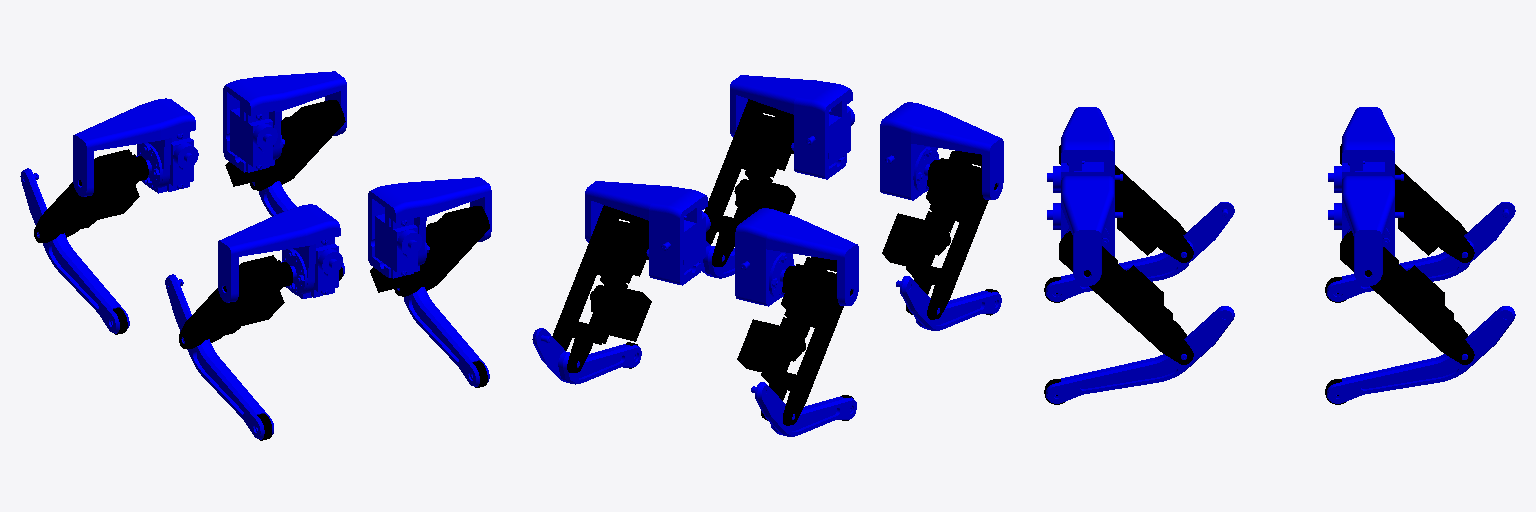
--- Render facts (derived) ---
Views: 3 orthographic renders of the robot side by side, from view 1: azimuth 30°, elevation 25°; view 2: azimuth 150°, elevation 25°; view 3: azimuth 270°, elevation 25°.
Robot: nx15a — 18 links, 17 joints (12 revolute, 5 fixed); root link base_link; default pose: every joint at zero.
Visible links, largest first — view 1: Leg_Upper_RF, Leg_Upper_RR, Leg_Upper_LR, Leg_Upper_LF, Leg_Mid_RR, Leg_Mid_RF, Leg_Mid_LF, Leg_Mid_LR, Leg_bottom_RR, Leg_bottom_RF, Leg_bottom_LF, Leg_bottom_LR; view 2: Leg_Mid_LR, Leg_Mid_RF, Leg_Mid_RR, Leg_Mid_LF, Leg_Upper_RR, Leg_Upper_RF, Leg_Upper_LR, Leg_Upper_LF, Leg_bottom_LR, Leg_bottom_RR, Leg_bottom_RF, Leg_bottom_LF; view 3: Leg_Mid_LF, Leg_Mid_LR, Leg_Upper_LF, Leg_Upper_LR, Leg_bottom_LR, Leg_bottom_LF, Leg_Mid_RR, Leg_Mid_RF, Leg_Upper_RF, Leg_Upper_RR, Leg_bottom_RR, Leg_bottom_RF.
Link boxes in pixels (x1=…): Leg_Upper_RF: x1=218, y1=204, x2=342, y2=302; Leg_Upper_RR: x1=73, y1=98, x2=198, y2=196; Leg_Upper_LR: x1=223, y1=71, x2=346, y2=172; Leg_Upper_LF: x1=368, y1=177, x2=491, y2=278; Leg_Mid_RR: x1=34, y1=149, x2=148, y2=242; Leg_Mid_RF: x1=179, y1=255, x2=292, y2=348; Leg_Mid_LF: x1=370, y1=206, x2=489, y2=296; Leg_Mid_LR: x1=225, y1=100, x2=345, y2=190; Leg_bottom_RR: x1=20, y1=168, x2=129, y2=333; Leg_bottom_RF: x1=165, y1=274, x2=273, y2=439; Leg_bottom_LF: x1=397, y1=287, x2=489, y2=386; Leg_bottom_LR: x1=252, y1=181, x2=344, y2=275; Leg_Mid_LR: x1=552, y1=205, x2=651, y2=372; Leg_Mid_RF: x1=882, y1=151, x2=997, y2=319; Leg_Mid_RR: x1=737, y1=257, x2=852, y2=425; Leg_Mid_LF: x1=704, y1=99, x2=795, y2=266; Leg_Upper_RR: x1=735, y1=208, x2=858, y2=306; Leg_Upper_RF: x1=880, y1=102, x2=1003, y2=200; Leg_Upper_LR: x1=585, y1=181, x2=710, y2=285; Leg_Upper_LF: x1=730, y1=75, x2=854, y2=179; Leg_bottom_LR: x1=532, y1=328, x2=641, y2=384; Leg_bottom_RR: x1=751, y1=382, x2=856, y2=436; Leg_bottom_RF: x1=896, y1=276, x2=1001, y2=330; Leg_bottom_LF: x1=701, y1=241, x2=734, y2=278; Leg_Mid_LF: x1=1059, y1=231, x2=1193, y2=364; Leg_Mid_LR: x1=1340, y1=231, x2=1474, y2=364; Leg_Upper_LF: x1=1047, y1=176, x2=1122, y2=285; Leg_Upper_LR: x1=1328, y1=176, x2=1403, y2=285; Leg_bottom_LR: x1=1327, y1=306, x2=1515, y2=403; Leg_bottom_LF: x1=1046, y1=306, x2=1234, y2=403; Leg_Mid_RR: x1=1340, y1=144, x2=1474, y2=262; Leg_Mid_RF: x1=1059, y1=145, x2=1193, y2=262; Leg_Upper_RF: x1=1047, y1=107, x2=1122, y2=192; Leg_Upper_RR: x1=1328, y1=107, x2=1403, y2=192; Leg_bottom_RR: x1=1327, y1=202, x2=1515, y2=301; Leg_bottom_RF: x1=1046, y1=202, x2=1234, y2=301.
Bounding box of the posed robot: 0.151 × 0.244 × 0.1093 m (x, y, z).
16 mesh visuals loaded from 8 distinct referenced files (7 binary STL); not drawn: 1 (reference not matched to a file when rendering).

robot.urdf — nx15a:
<?xml version="1.0" ?>
<robot name="nx15a">
    <material name="blue">
        <color rgba="0.0 0.0 1.0 2.0" />
    </material>
    <material name="black">
        <color rgba="0.0 0.0 0.0 2.0" />
    </material>
    <link name="base_link" />
    <joint name="base_joint" type="fixed">
        <parent link="base_link" />
        <child link="Body" />
        <origin xyz="0 0 0.140" rpy="0 0 0" />
    </joint>
    <link name="Body">
        <visual>
            <geometry>
                <mesh filename="package://nx15a/stl/Body.stl" />
            </geometry>
            <origin xyz="0 0 0" rpy="0 0 0" />
            <material name="blue" />
        </visual>
        <collision>
            <geometry>
                <box size="0.076 0.112 0.048" />
            </geometry>
            <origin xyz="0 0.056 0.009" rpy="0 0 0" />
            <material name="blue" />
        </collision>
	<inertial>
            <origin xyz="0 0.052 0.008" rpy="0 0 0" />
            <mass value="0.346" />
            <inertia ixx="0.000441846" ixy="0" ixz="0" iyx="0" iyy="0.000227303" iyz="0" izx="0" izy="0" izz="0.00054726" />
        </inertial>
    </link>
    <joint name="joint_LF_1" type="revolute">
        <parent link="Body" />
        <child link="Leg_Upper_LF" />
        <origin xyz="0.023 -0.0355 0" rpy="0 0 0" />
        <axis xyz="0 1 0" />
        <limit lower="-1.57" upper="1.57" effort="30" velocity="3.142" />
    </joint>
    <link name="Leg_Upper_LF">
        <visual>
            <geometry>
                <mesh filename="package://nx15a/stl/Leg_Upper_LH.stl" />
            </geometry>
            <origin xyz="-0.007 0.035 -0.022" rpy="0 0 0" />
            <material name="blue" />
        </visual>
        <collision>
            <geometry>
                <box size="0.018 0.032 0.0422" />
            </geometry>
            <origin xyz="0.002 0.019 -0.0009" rpy="0 0 0" />
            <material name="blue" />
        </collision>
	<inertial>
            <origin xyz="0.007 0.00203 0.0003" rpy="0 0 0" />
            <mass value="0.035143" />
            <inertia ixx="0.000008214" ixy="0" ixz="0" iyx="0" iyy="0.000006164" iyz="0" izx="0" izy="0" izz="0.000003948" />
        </inertial>
    </link>
    <joint name="joint_LF_2" type="revolute">
        <parent link="Leg_Upper_LF" />
        <child link="Leg_Mid_LF" />
        <origin xyz="0.013 0.021 -0.0093" rpy="0.785398163397 0 0" />
        <axis xyz="1 0 0" />
        <limit lower="-1.57" upper="1.57" effort="30" velocity="3.142" />
    </joint>
    <link name="Leg_Mid_LF">
        <visual>
            <geometry>
                <mesh filename="package://nx15a/stl/Leg_Mid_LH.stl" />
            </geometry>
            <origin xyz="0.035 0.007 -0.0557" rpy="0 0 0" />
            <material name="black" />
        </visual>
        <collision>
            <geometry>
                <box size="0.032 0.014 0.0714" />
            </geometry>
            <origin xyz="0.019 0 -0.020" rpy="0 0 0" />
            <material name="black" />
        </collision>
	<inertial>
            <origin xyz="0.0166 0 -0.0229" rpy="0 0 0" />
            <mass value="0.039138" />
            <inertia ixx="0.000017266" ixy="0" ixz="0" iyx="0" iyy="0.000019967" iyz="0" izx="0" izy="0" izz="0.000003979" />
        </inertial>
    </link>
    <joint name="joint_LF_3" type="revolute">
        <parent link="Leg_Mid_LF" />
        <child link="Leg_bottom_LF" />
        <origin xyz="0.022 0 -0.0707" rpy="-1.570796326795 0 0" />
        <axis xyz="1 0 0" />
        <limit lower="-1.57" upper="1.57" effort="30" velocity="3.142" />
    </joint>
    <link name="Leg_bottom_LF">
        <visual>
            <geometry>
                <mesh filename="package://nx15a/stl/Leg_bottom_LH.stl" />
            </geometry>
            <origin xyz="0.0045 0 0" rpy="0 0 0" />
            <material name="blue" />
        </visual>
        <collision>
            <geometry>
                <box size="0.008 0.010 0.060" />
            </geometry>
            <origin xyz="0.0049 -0.012896 -0.030" rpy="-0.444360827558 0 0" />
            <material name="blue" />
        </collision>
	<inertial>
            <origin xyz="0.0049 -0.012896 -0.030" rpy="-0.444360827558 0 0" />
            <mass value="0.00816" />
            <inertia ixx="0.000002516" ixy="0" ixz="0" iyx="0" iyy="0.000002492" iyz="0" izx="0" izy="0" izz="0.000000112" />
        </inertial>
    </link>
    <joint name="joint_LF_4" type="fixed">
        <parent link="Leg_bottom_LF" />
        <child link="Rubber_LF" />
        <origin xyz="0.0023 -0.030 -0.063" rpy="0.785398163397 0 0" />
    </joint>
    <link name="Rubber_LF">
        <visual>
            <geometry>
                <mesh filename="package://nx15a/stl/Rubber.stl" />
            </geometry>
            <origin xyz="0.0002 0 0" rpy="0 0 0" />
            <material name="black" />
        </visual>
        <collision>
            <geometry>
                <sphere radius="0.0065" />
            </geometry>
            <origin xyz="0.0022 0 0" rpy="0 0 0" />
            <material name="black" />
        </collision>
	<inertial>
            <origin xyz="0.0022 0 0" rpy="0 0 0" />
            <mass value="0.0004" />
            <inertia ixx="0.000000011" ixy="0" ixz="0" iyx="0" iyy="0.000000006" iyz="0" izx="0" izy="0" izz="0.000000006" />
        </inertial>
    </link>
    
    <joint name="joint_LR_1" type="revolute">
        <parent link="Body" />
        <child link="Leg_Upper_LR" />
        <origin xyz="0.023 0.110 0" rpy="0 0 0" />
        <axis xyz="0 1 0" />
        <limit lower="-1.57" upper="1.57" effort="30" velocity="3.142" />
    </joint>
    <link name="Leg_Upper_LR">
        <visual>
            <geometry>
                <mesh filename="package://nx15a/stl/Leg_Upper_LH.stl" />
            </geometry>
            <origin xyz="-0.007 0.035 -0.022" rpy="0 0 0" />
            <material name="blue" />
        </visual>
        <collision>
            <geometry>
                <box size="0.018 0.032 0.0422" />
            </geometry>
            <origin xyz="0.002 0.019 -0.0009" rpy="0 0 0" />
            <material name="blue" />
        </collision>
	<inertial>
            <origin xyz="0.007 0.00203 0.0003" rpy="0 0 0" />
            <mass value="0.035143" />
            <inertia ixx="0.000008214" ixy="0" ixz="0" iyx="0" iyy="0.000006164" iyz="0" izx="0" izy="0" izz="0.000003948" />
        </inertial>
    </link>
    <joint name="joint_LR_2" type="revolute">
        <parent link="Leg_Upper_LR" />
        <child link="Leg_Mid_LR" />
        <origin xyz="0.013 0.021 -0.0093" rpy="0.785398163397 0 0" />
        <axis xyz="1 0 0" />
        <limit lower="-1.57" upper="1.57" effort="30" velocity="3.142" />
    </joint>
    <link name="Leg_Mid_LR">
        <visual>
            <geometry>
                <mesh filename="package://nx15a/stl/Leg_Mid_LH.stl" />
            </geometry>
            <origin xyz="0.035 0.007 -0.0557" rpy="0 0 0" />
            <material name="black" />
        </visual>
        <collision>
            <geometry>
                <box size="0.032 0.014 0.0714" />
            </geometry>
            <origin xyz="0.019 0 -0.020" rpy="0 0 0" />
            <material name="black" />
        </collision>
	<inertial>
            <origin xyz="0.0166 0 -0.0229" rpy="0 0 0" />
            <mass value="0.039138" />
            <inertia ixx="0.000017266" ixy="0" ixz="0" iyx="0" iyy="0.000019967" iyz="0" izx="0" izy="0" izz="0.000003979" />
        </inertial>
    </link>
    <joint name="joint_LR_3" type="revolute">
        <parent link="Leg_Mid_LR" />
        <child link="Leg_bottom_LR" />
        <origin xyz="0.022 0 -0.0707" rpy="-1.570796326795 0 0" />
        <axis xyz="1 0 0" />
        <limit lower="-1.57" upper="1.57" effort="30" velocity="3.142" />
    </joint>
    <link name="Leg_bottom_LR">
        <visual>
            <geometry>
                <mesh filename="package://nx15a/stl/Leg_bottom_LH.stl" />
            </geometry>
            <origin xyz="0.0045 0 0" rpy="0 0 0" />
            <material name="blue" />
        </visual>
        <collision>
            <geometry>
                <box size="0.008 0.010 0.060" />
            </geometry>
            <origin xyz="0.0049 -0.012896 -0.030" rpy="-0.444360827558 0 0" />
            <material name="blue" />
        </collision>
	<inertial>
            <origin xyz="0.0049 -0.012896 -0.030" rpy="-0.444360827558 0 0" />
            <mass value="0.00816" />
            <inertia ixx="0.000002516" ixy="0" ixz="0" iyx="0" iyy="0.000002492" iyz="0" izx="0" izy="0" izz="0.000000112" />
        </inertial>
    </link>
    <joint name="joint_LR_4" type="fixed">
        <parent link="Leg_bottom_LR" />
        <child link="Rubber_LR" />
        <origin xyz="0.0023 -0.030 -0.063" rpy="0.785398163397 0 0" />
    </joint>
    <link name="Rubber_LR">
        <visual>
            <geometry>
                <mesh filename="package://nx15a/stl/Rubber.stl" />
            </geometry>
            <origin xyz="0.0002 0 0" rpy="0 0 0" />
            <material name="black" />
        </visual>
        <collision>
            <geometry>
                <sphere radius="0.0065" />
            </geometry>
            <origin xyz="0.0022 0 0" rpy="0 0 0" />
            <material name="black" />
        </collision>
	<inertial>
            <origin xyz="0.0022 0 0" rpy="0 0 0" />
            <mass value="0.0004" />
            <inertia ixx="0.000000011" ixy="0" ixz="0" iyx="0" iyy="0.000000006" iyz="0" izx="0" izy="0" izz="0.000000006" />
        </inertial>
    </link>

    <joint name="joint_RF_1" type="revolute">
        <parent link="Body" />
        <child link="Leg_Upper_RF" />
        <origin xyz="-0.023 -0.0355 0" rpy="0 0 0" />
        <axis xyz="0 1 0" />
        <limit lower="-1.57" upper="1.57" effort="30" velocity="3.142" />
    </joint>
    <link name="Leg_Upper_RF">
        <visual>
            <geometry>
                <mesh filename="package://nx15a/stl/Leg_Upper_RH.stl" />
            </geometry>
            <origin xyz="0.007 0.035 -0.022" rpy="0 0 0" />
            <material name="blue" />
        </visual>
        <collision>
            <geometry>
                <box size="0.018 0.032 0.0422" />
            </geometry>
            <origin xyz="-0.002 0.019 -0.0009" rpy="0 0 0" />
            <material name="blue" />
        </collision>
	<inertial>
            <origin xyz="-0.007 0.00203 0.0003" rpy="0 0 0" />
            <mass value="0.035143" />
            <inertia ixx="0.000008214" ixy="0" ixz="0" iyx="0" iyy="0.000006164" iyz="0" izx="0" izy="0" izz="0.000003948" />
        </inertial>
    </link>
    <joint name="joint_RF_2" type="revolute">
        <parent link="Leg_Upper_RF" />
        <child link="Leg_Mid_RF" />
        <origin xyz="-0.013 0.021 -0.0093" rpy="0.785398163397 0 0" />
        <axis xyz="1 0 0" />
        <limit lower="-1.57" upper="1.57" effort="30" velocity="3.142" />
    </joint>
    <link name="Leg_Mid_RF">
        <visual>
            <geometry>
                <mesh filename="package://nx15a/stl/Leg_Mid_RH.stl" />
            </geometry>
            <origin xyz="-0.035 0.007 -0.0557" rpy="0 0 0" />
            <material name="black" />
        </visual>
        <collision>
            <geometry>
                <box size="0.032 0.014 0.0714" />
            </geometry>
            <origin xyz="-0.019 0 -0.020" rpy="0 0 0" />
            <material name="black" />
        </collision>
	<inertial>
            <origin xyz="-0.0166 0 -0.0229" rpy="0 0 0" />
            <mass value="0.039138" />
            <inertia ixx="0.000017266" ixy="0" ixz="0" iyx="0" iyy="0.000019967" iyz="0" izx="0" izy="0" izz="0.000003979" />
        </inertial>
    </link>
    <joint name="joint_RF_3" type="revolute">
        <parent link="Leg_Mid_RF" />
        <child link="Leg_bottom_RF" />
        <origin xyz="-0.022 0 -0.0707" rpy="-1.570796326795 0 0" />
        <axis xyz="1 0 0" />
        <limit lower="-1.57" upper="1.57" effort="30" velocity="3.142" />
    </joint>
    <link name="Leg_bottom_RF">
        <visual>
            <geometry>
                <mesh filename="package://nx15a/stl/Leg_bottom_RH.stl" />
            </geometry>
            <origin xyz="-0.0045 0 0" rpy="0 0 0" />
            <material name="blue" />
        </visual>
        <collision>
            <geometry>
                <box size="0.008 0.010 0.060" />
            </geometry>
            <origin xyz="-0.0049 -0.012896 -0.030" rpy="-0.444360827558 0 0" />
            <material name="blue" />
        </collision>
	<inertial>
            <origin xyz="-0.0049 -0.012896 -0.030" rpy="-0.444360827558 0 0" />
            <mass value="0.00816" />
            <inertia ixx="0.000002516" ixy="0" ixz="0" iyx="0" iyy="0.000002492" iyz="0" izx="0" izy="0" izz="0.000000112" />
        </inertial>
    </link>
    <joint name="joint_RF_4" type="fixed">
        <parent link="Leg_bottom_RF" />
        <child link="Rubber_RF" />
        <origin xyz="-0.0023 -0.030 -0.063" rpy="0.785398163397 0 0" />
    </joint>
    <link name="Rubber_RF">
        <visual>
            <geometry>
                <mesh filename="package://nx15a/stl/Rubber.stl" />
            </geometry>
            <origin xyz="-0.0002 0 0" rpy="0 0 3.1415926535897931" />
            <material name="black" />
        </visual>
        <collision>
            <geometry>
                <sphere radius="0.0065" />
            </geometry>
            <origin xyz="-0.0022 0 0" rpy="0 0 0" />
            <material name="black" />
        </collision>
	<inertial>
            <origin xyz="-0.0022 0 0" rpy="0 0 0" />
            <mass value="0.0004" />
            <inertia ixx="0.000000011" ixy="0" ixz="0" iyx="0" iyy="0.000000006" iyz="0" izx="0" izy="0" izz="0.000000006" />
        </inertial>
    </link>

    <joint name="joint_RR_1" type="revolute">
        <parent link="Body" />
        <child link="Leg_Upper_RR" />
        <origin xyz="-0.023 0.110 0" rpy="0 0 0" />
        <axis xyz="0 1 0" />
        <limit lower="-1.57" upper="1.57" effort="30" velocity="3.142" />
    </joint>
    <link name="Leg_Upper_RR">
        <visual>
            <geometry>
                <mesh filename="package://nx15a/stl/Leg_Upper_RH.stl" />
            </geometry>
            <origin xyz="0.007 0.035 -0.022" rpy="0 0 0" />
            <material name="blue" />
        </visual>
        <collision>
            <geometry>
                <box size="0.018 0.032 0.0422" />
            </geometry>
            <origin xyz="-0.002 0.019 -0.0009" rpy="0 0 0" />
            <material name="blue" />
        </collision>
	<inertial>
            <origin xyz="-0.007 0.00203 0.0003" rpy="0 0 0" />
            <mass value="0.035143" />
            <inertia ixx="0.000008214" ixy="0" ixz="0" iyx="0" iyy="0.000006164" iyz="0" izx="0" izy="0" izz="0.000003948" />
        </inertial>
    </link>
    <joint name="joint_RR_2" type="revolute">
        <parent link="Leg_Upper_RR" />
        <child link="Leg_Mid_RR" />
        <origin xyz="-0.013 0.021 -0.0093" rpy="0.785398163397 0 0" />
        <axis xyz="1 0 0" />
        <limit lower="-1.57" upper="1.57" effort="30" velocity="3.142" />
    </joint>
    <link name="Leg_Mid_RR">
        <visual>
            <geometry>
                <mesh filename="package://nx15a/stl/Leg_Mid_RH.stl" />
            </geometry>
            <origin xyz="-0.035 0.007 -0.0557" rpy="0 0 0" />
            <material name="black" />
        </visual>
        <collision>
            <geometry>
                <box size="0.032 0.014 0.0714" />
            </geometry>
            <origin xyz="-0.019 0 -0.020" rpy="0 0 0" />
            <material name="black" />
        </collision>
	<inertial>
            <origin xyz="-0.0166 0 -0.0229" rpy="0 0 0" />
            <mass value="0.039138" />
            <inertia ixx="0.000017266" ixy="0" ixz="0" iyx="0" iyy="0.000019967" iyz="0" izx="0" izy="0" izz="0.000003979" />
        </inertial>
    </link>
    <joint name="joint_RR_3" type="revolute">
        <parent link="Leg_Mid_RR" />
        <child link="Leg_bottom_RR" />
        <origin xyz="-0.022 0 -0.0707" rpy="-1.570796326795 0 0" />
        <axis xyz="1 0 0" />
        <limit lower="-1.57" upper="1.57" effort="30" velocity="3.142" />
    </joint>
    <link name="Leg_bottom_RR">
        <visual>
            <geometry>
                <mesh filename="package://nx15a/stl/Leg_bottom_RH.stl" />
            </geometry>
            <origin xyz="-0.0045 0 0" rpy="0 0 0" />
            <material name="blue" />
        </visual>
        <collision>
            <geometry>
                <box size="0.008 0.010 0.060" />
            </geometry>
            <origin xyz="-0.0049 -0.012896 -0.030" rpy="-0.444360827558 0 0" />
            <material name="blue" />
        </collision>
	<inertial>
            <origin xyz="-0.0049 -0.012896 -0.030" rpy="-0.444360827558 0 0" />
            <mass value="0.00816" />
            <inertia ixx="0.000002516" ixy="0" ixz="0" iyx="0" iyy="0.000002492" iyz="0" izx="0" izy="0" izz="0.000000112" />
        </inertial>
    </link>
    <joint name="joint_RR_4" type="fixed">
        <parent link="Leg_bottom_RR" />
        <child link="Rubber_RR" />
        <origin xyz="-0.0023 -0.030 -0.063" rpy="0.785398163397 0 0" />
    </joint>
    <link name="Rubber_RR">
        <visual>
            <geometry>
                <mesh filename="package://nx15a/stl/Rubber.stl" />
            </geometry>
            <origin xyz="-0.0002 0 0" rpy="0 0 3.1415926535897931" />
            <material name="black" />
        </visual>
        <collision>
            <geometry>
                <sphere radius="0.0065" />
            </geometry>
            <origin xyz="-0.0022 0 0" rpy="0 0 0" />
            <material name="black" />
        </collision>
	<inertial>
            <origin xyz="-0.0022 0 0" rpy="0 0 0" />
            <mass value="0.0004" />
            <inertia ixx="0.000000011" ixy="0" ixz="0" iyx="0" iyy="0.000000006" iyz="0" izx="0" izy="0" izz="0.000000006" />
        </inertial>
    </link>
    
    <transmission name="trans_joint_LF_1">
        <type>transmission_interface/SimpleTransmission</type>
        <joint name="joint_LF_1">
            <hardwareInterface>hardware_interface/EffortJointInterface</hardwareInterface>
        </joint>
        <actuator name="joint_LF_1_motor">
            <hardwareInterface>hardware_interface/EffortJointInterface</hardwareInterface>
            <mechanicalReduction>1</mechanicalReduction>
        </actuator>
    </transmission>
    <transmission name="trans_joint_LF_2">
        <type>transmission_interface/SimpleTransmission</type>
        <joint name="joint_LF_2">
            <hardwareInterface>hardware_interface/EffortJointInterface</hardwareInterface>
        </joint>
        <actuator name="joint_LF_2_motor">
            <hardwareInterface>hardware_interface/EffortJointInterface</hardwareInterface>
            <mechanicalReduction>1</mechanicalReduction>
        </actuator>
    </transmission>
    <transmission name="trans_joint_LF_3">
        <type>transmission_interface/SimpleTransmission</type>
        <joint name="joint_LF_3">
            <hardwareInterface>hardware_interface/EffortJointInterface</hardwareInterface>
        </joint>
        <actuator name="joint_LF_3_motor">
            <hardwareInterface>hardware_interface/EffortJointInterface</hardwareInterface>
            <mechanicalReduction>1</mechanicalReduction>
        </actuator>
    </transmission>
    <transmission name="trans_joint_LR_1">
        <type>transmission_interface/SimpleTransmission</type>
        <joint name="joint_LR_1">
            <hardwareInterface>hardware_interface/EffortJointInterface</hardwareInterface>
        </joint>
        <actuator name="joint_LR_1_motor">
            <hardwareInterface>hardware_interface/EffortJointInterface</hardwareInterface>
            <mechanicalReduction>1</mechanicalReduction>
        </actuator>
    </transmission>
    <transmission name="trans_joint_LR_2">
        <type>transmission_interface/SimpleTransmission</type>
        <joint name="joint_LR_2">
            <hardwareInterface>hardware_interface/EffortJointInterface</hardwareInterface>
        </joint>
        <actuator name="joint_LR_2_motor">
            <hardwareInterface>hardware_interface/EffortJointInterface</hardwareInterface>
            <mechanicalReduction>1</mechanicalReduction>
        </actuator>
    </transmission>
    <transmission name="trans_joint_LR_3">
        <type>transmission_interface/SimpleTransmission</type>
        <joint name="joint_LR_3">
            <hardwareInterface>hardware_interface/EffortJointInterface</hardwareInterface>
        </joint>
        <actuator name="joint_LR_3_motor">
            <hardwareInterface>hardware_interface/EffortJointInterface</hardwareInterface>
            <mechanicalReduction>1</mechanicalReduction>
        </actuator>
    </transmission>
    <transmission name="trans_joint_RF_1">
        <type>transmission_interface/SimpleTransmission</type>
        <joint name="joint_RF_1">
            <hardwareInterface>hardware_interface/EffortJointInterface</hardwareInterface>
        </joint>
        <actuator name="joint_RF_1_motor">
            <hardwareInterface>hardware_interface/EffortJointInterface</hardwareInterface>
            <mechanicalReduction>1</mechanicalReduction>
        </actuator>
    </transmission>
    <transmission name="trans_joint_RF_2">
        <type>transmission_interface/SimpleTransmission</type>
        <joint name="joint_RF_2">
            <hardwareInterface>hardware_interface/EffortJointInterface</hardwareInterface>
        </joint>
        <actuator name="joint_RF_2_motor">
            <hardwareInterface>hardware_interface/EffortJointInterface</hardwareInterface>
            <mechanicalReduction>1</mechanicalReduction>
        </actuator>
    </transmission>
    <transmission name="trans_joint_RF_3">
        <type>transmission_interface/SimpleTransmission</type>
        <joint name="joint_RF_3">
            <hardwareInterface>hardware_interface/EffortJointInterface</hardwareInterface>
        </joint>
        <actuator name="joint_RF_3_motor">
            <hardwareInterface>hardware_interface/EffortJointInterface</hardwareInterface>
            <mechanicalReduction>1</mechanicalReduction>
        </actuator>
    </transmission>
    <transmission name="trans_joint_RR_1">
        <type>transmission_interface/SimpleTransmission</type>
        <joint name="joint_RR_1">
            <hardwareInterface>hardware_interface/EffortJointInterface</hardwareInterface>
        </joint>
        <actuator name="joint_RR_1_motor">
            <hardwareInterface>hardware_interface/EffortJointInterface</hardwareInterface>
            <mechanicalReduction>1</mechanicalReduction>
        </actuator>
    </transmission>
    <transmission name="trans_joint_RR_2">
        <type>transmission_interface/SimpleTransmission</type>
        <joint name="joint_RR_2">
            <hardwareInterface>hardware_interface/EffortJointInterface</hardwareInterface>
        </joint>
        <actuator name="joint_RR_2_motor">
            <hardwareInterface>hardware_interface/EffortJointInterface</hardwareInterface>
            <mechanicalReduction>1</mechanicalReduction>
        </actuator>
    </transmission>
    <transmission name="trans_joint_RR_3">
        <type>transmission_interface/SimpleTransmission</type>
        <joint name="joint_RR_3">
            <hardwareInterface>hardware_interface/EffortJointInterface</hardwareInterface>
        </joint>
        <actuator name="joint_RR_3_motor">
            <hardwareInterface>hardware_interface/EffortJointInterface</hardwareInterface>
            <mechanicalReduction>1</mechanicalReduction>
        </actuator>
    </transmission>
    <gazebo reference="Body">
        <material>Gazebo/Blue</material>
    </gazebo>
    <gazebo reference="Leg_Upper_LF">
        <material>Gazebo/Blue</material>
    </gazebo>
    <gazebo reference="Leg_Upper_LR">
        <material>Gazebo/Blue</material>
    </gazebo>
    <gazebo reference="Leg_Upper_RF">
        <material>Gazebo/Blue</material>
    </gazebo>
    <gazebo reference="Leg_Upper_RR">
        <material>Gazebo/Blue</material>
    </gazebo>
    <gazebo reference="Leg_Mid_LF">
        <material>Gazebo/Black</material>
    </gazebo>
    <gazebo reference="Leg_Mid_LR">
        <material>Gazebo/Black</material>
    </gazebo>
    <gazebo reference="Leg_Mid_RF">
        <material>Gazebo/Black</material>
    </gazebo>
    <gazebo reference="Leg_Mid_RR">
        <material>Gazebo/Black</material>
    </gazebo>
    <gazebo reference="Leg_bottom_LF">
        <material>Gazebo/Blue</material>
    </gazebo>
    <gazebo reference="Leg_bottom_LR">
        <material>Gazebo/Blue</material>
    </gazebo>
    <gazebo reference="Leg_bottom_RF">
        <material>Gazebo/Blue</material>
    </gazebo>
    <gazebo reference="Leg_bottom_RR">
        <material>Gazebo/Blue</material>
    </gazebo>
    <gazebo reference="Rubber_LF">
        <material>Gazebo/Black</material>
        <kp>1e9</kp>
        <kd>100</kd>
        <mu1>1.0</mu1>
        <mu2>1.0</mu2>
        <fdir1>1 0 0</fdir1>
        <maxVel>1.0</maxVel>
        <minDepth>0.001</minDepth>
    </gazebo>
    <gazebo reference="Rubber_LR">
        <material>Gazebo/Black</material>
        <kp>1e9</kp>
        <kd>100</kd>
        <mu1>1.0</mu1>
        <mu2>1.0</mu2>
        <fdir1>1 0 0</fdir1>
        <maxVel>1.0</maxVel>
        <minDepth>0.001</minDepth>
    </gazebo>
    <gazebo reference="Rubber_RF">
        <material>Gazebo/Black</material>
        <kp>1e9</kp>
        <kd>100</kd>
        <mu1>1.0</mu1>
        <mu2>1.0</mu2>
        <fdir1>1 0 0</fdir1>
        <maxVel>1.0</maxVel>
        <minDepth>0.001</minDepth>
    </gazebo>
    <gazebo reference="Rubber_RR">
        <material>Gazebo/Black</material>
        <kp>1e9</kp>
        <kd>100</kd>
        <mu1>1.0</mu1>
        <mu2>1.0</mu2>
        <fdir1>1 0 0</fdir1>
        <maxVel>1.0</maxVel>
        <minDepth>0.001</minDepth>
    </gazebo>
    <gazebo>
        <plugin name="gazebo_ros_control" filename="libgazebo_ros_control.so">
            <robotNamespace>/</robotNamespace>
            <robotSimType>gazebo_ros_control/DefaultRobotHWSim</robotSimType>
            <legacyModeNS>true</legacyModeNS>
        </plugin>
        <plugin name="joint_state_publisher" filename="libgazebo_ros_joint_state_publisher.so">
            <robotNamespace>/</robotNamespace>
            <jointName>joint_LF_1, joint_LF_2, joint_LF_3, joint_LR_1, joint_LR_2, joint_LR_3, joint_RF_1, joint_RF_2, joint_RF_3, joint_RR_1, joint_RR_2, joint_RR_3</jointName>
        </plugin>
    </gazebo>
</robot>
